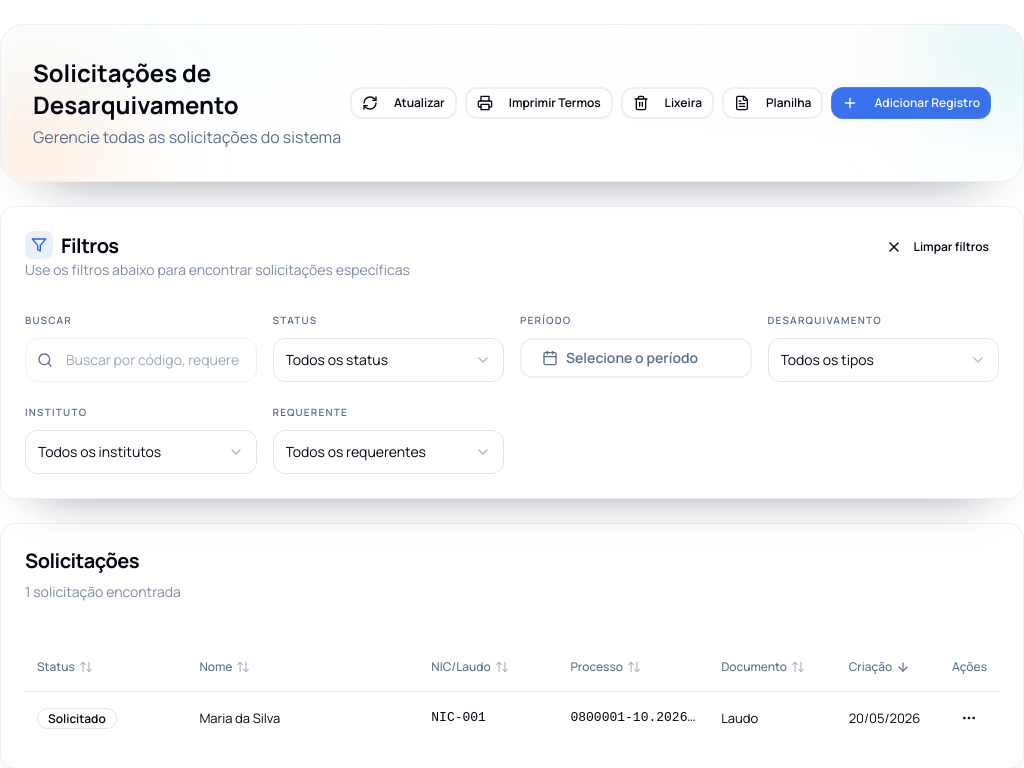
Test: DesarquivamentosPage › abre o modal de impressão com foco inicial e fecha por escape retornando foco
Click the button "Imprimir Termos": (539, 103) x1=465 y1=87 x2=613 y2=119
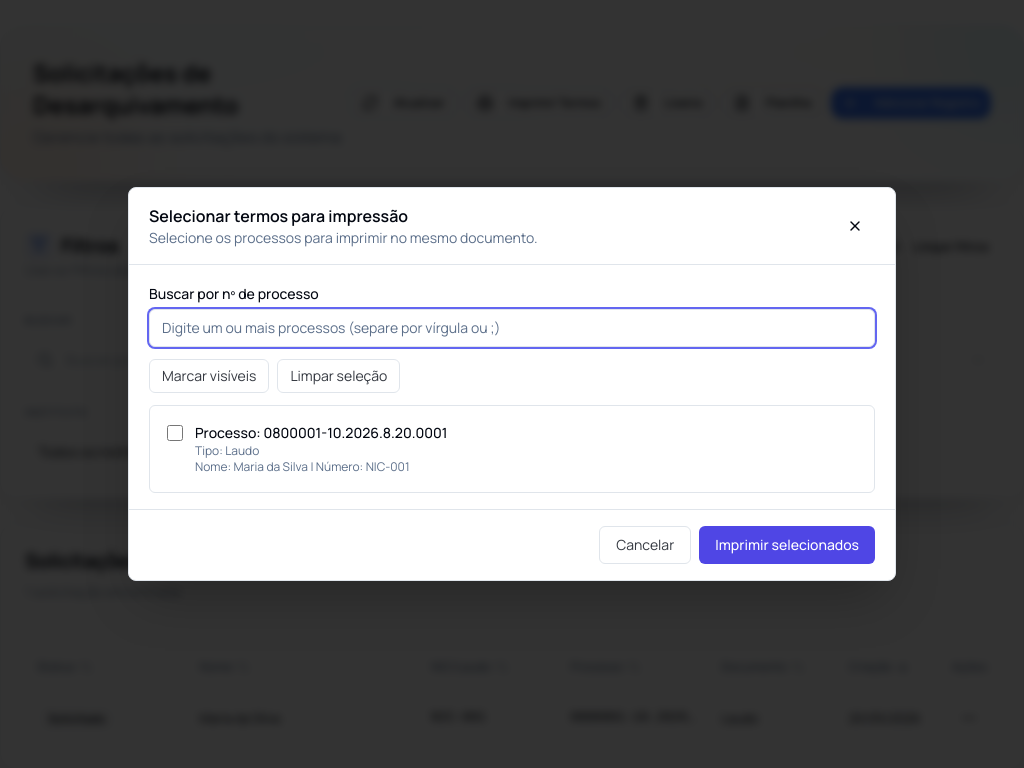
Press Escape
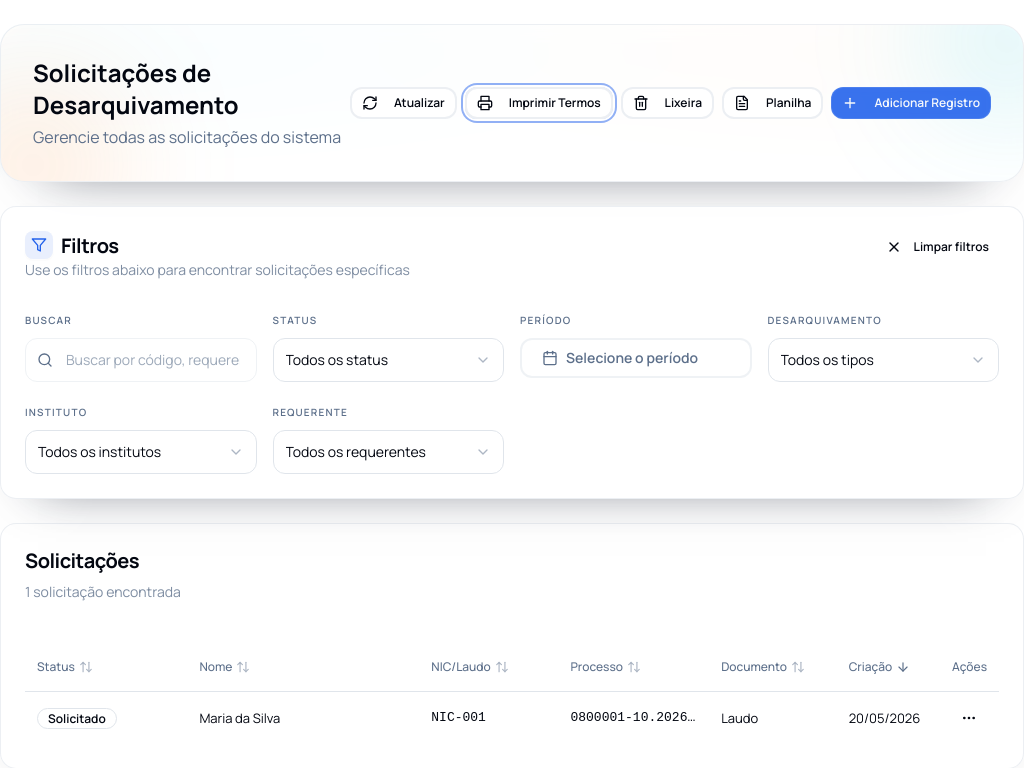
Expected: the dialog is gone
